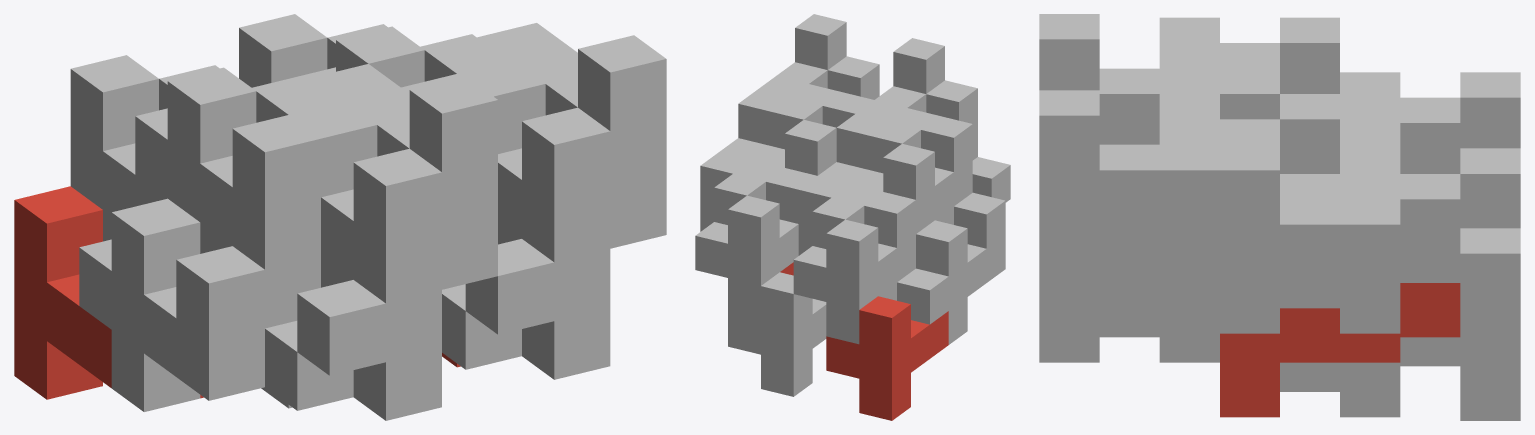
Rendered from tiling.obj.
3 views of the same model, side by side, from view 1: azimuth 30°, elevation 25°; view 2: azimuth 150°, elevation 25°; view 3: azimuth 270°, elevation 25° (orthographic). The views are drawn at different scales.
Visible parts, largest first — view 1: copy_2_domain_4, copy_2_domain_2, copy_2_domain_8, copy_1_domain_2, copy_2_domain_6, copy_1_domain_4, copy_1_domain_1, copy_1_domain_3, copy_1_domain_8, copy_2_domain_3, copy_1_domain_7, copy_1_domain_6 (+2 smaller); view 2: copy_2_domain_4, copy_1_domain_3, copy_2_domain_8, copy_1_domain_1, copy_1_domain_7, copy_2_domain_3, copy_1_domain_5, copy_2_domain_7, copy_1_domain_2, copy_1_domain_4, copy_2_domain_2, copy_1_domain_8 (+1 smaller); view 3: copy_2_domain_7, copy_2_domain_8, copy_1_domain_7, copy_2_domain_4, copy_2_domain_5, copy_2_domain_3, copy_1_domain_5, copy_1_domain_8, copy_2_domain_6, copy_1_domain_6, copy_1_domain_3, copy_1_domain_4.
Part boxes in pixels (x1,y1,x2,y2): copy_2_domain_4: (232, 76, 497, 289); copy_2_domain_2: (176, 221, 441, 420); copy_2_domain_8: (401, 35, 666, 248); copy_1_domain_2: (111, 198, 353, 411); copy_2_domain_6: (465, 180, 610, 379); copy_1_domain_4: (167, 67, 353, 279); copy_1_domain_1: (14, 186, 203, 399); copy_1_domain_3: (70, 55, 167, 215); copy_1_domain_8: (336, 26, 521, 238); copy_2_domain_3: (135, 64, 400, 198); copy_1_domain_7: (239, 14, 327, 87); copy_1_domain_6: (442, 284, 521, 369); copy_2_domain_4: (856, 38, 977, 173); copy_1_domain_3: (793, 219, 915, 344); copy_2_domain_8: (757, 14, 879, 149); copy_1_domain_1: (826, 296, 948, 420); copy_1_domain_7: (695, 195, 798, 320); copy_2_domain_3: (798, 114, 915, 248); copy_1_domain_5: (728, 272, 826, 396); copy_2_domain_7: (700, 90, 816, 224); copy_1_domain_2: (916, 220, 1005, 344); copy_1_domain_4: (851, 143, 972, 233); copy_2_domain_2: (935, 123, 1010, 248); copy_1_domain_8: (752, 120, 836, 175); copy_2_domain_7: (1220, 144, 1460, 333); copy_2_domain_8: (1039, 90, 1279, 279); copy_1_domain_7: (1280, 148, 1520, 337); copy_2_domain_4: (1039, 14, 1279, 144); copy_2_domain_5: (1220, 283, 1460, 417); copy_2_domain_3: (1220, 68, 1460, 173); copy_1_domain_5: (1280, 337, 1520, 420); copy_1_domain_8: (1099, 94, 1339, 279); copy_2_domain_6: (1039, 253, 1219, 362); copy_1_domain_6: (1099, 308, 1219, 362); copy_1_domain_3: (1460, 72, 1520, 148); copy_1_domain_4: (1280, 17, 1339, 93).
Size of the model in its own units: 7 by 7 by 8.
